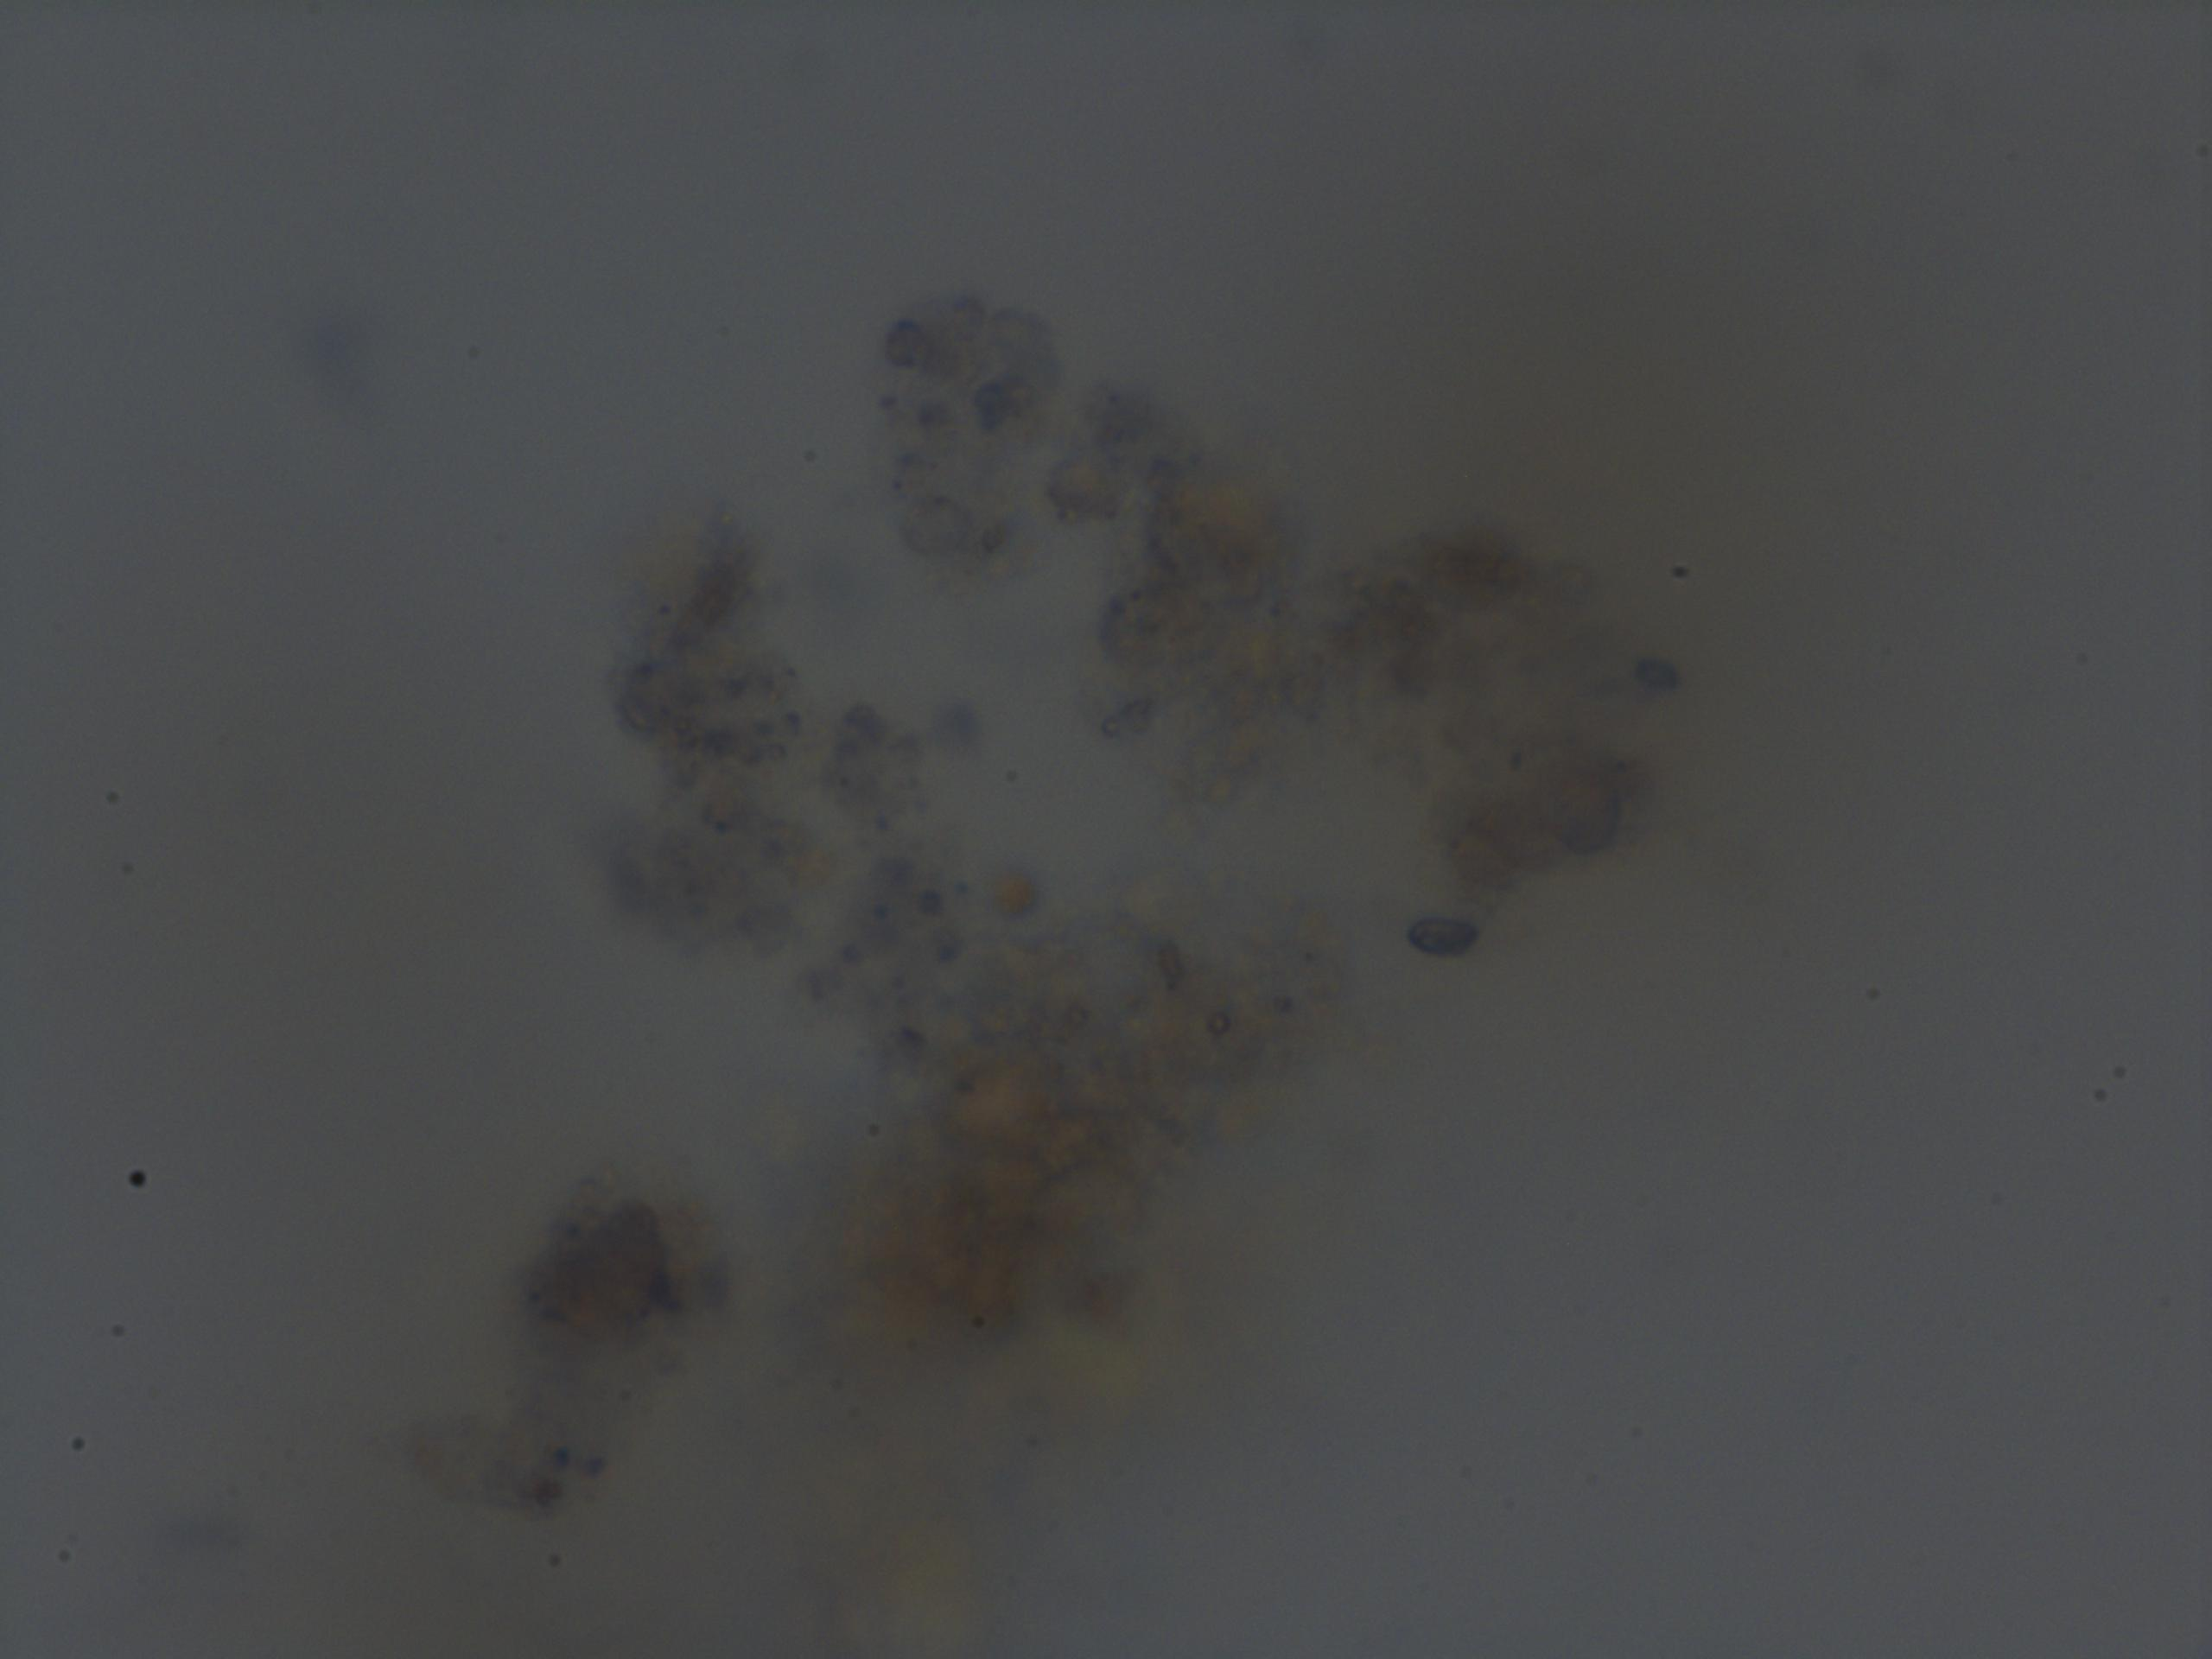open_floc: (495, 275, 1689, 1530)
